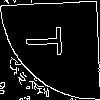T: (25, 25, 71, 58)
